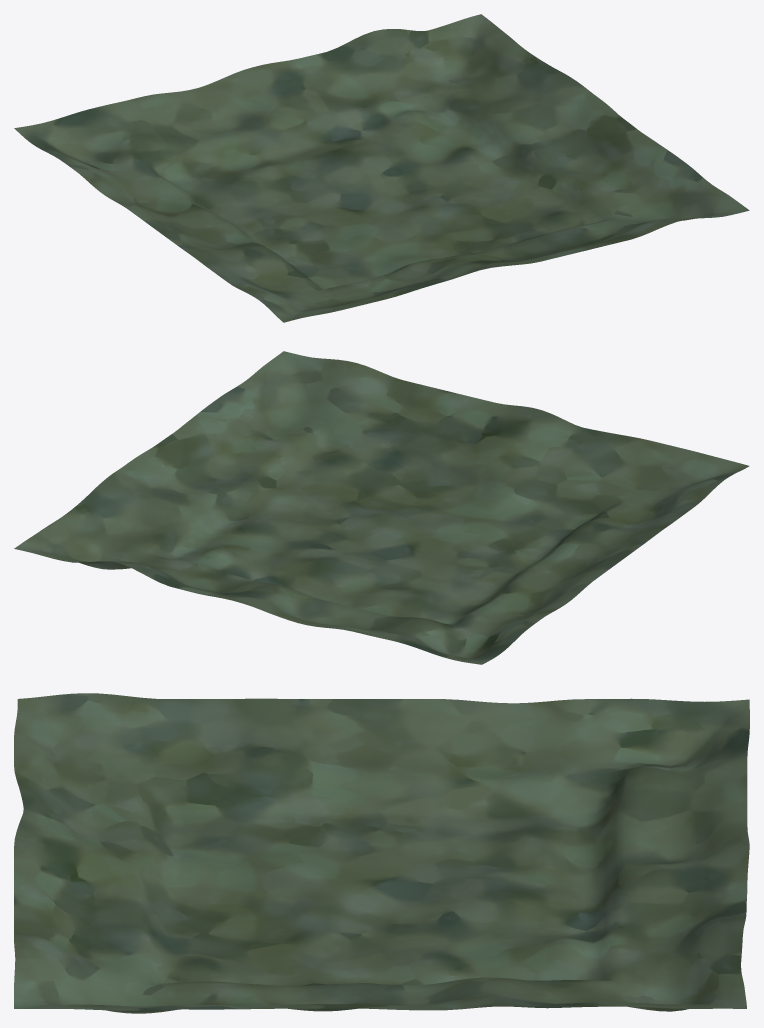
The model's file is floor.fbx.
The picture shows the model from 3 angles, top to bottom: view 1: azimuth 30°, elevation 25°; view 2: azimuth 150°, elevation 25°; view 3: azimuth 270°, elevation 25°; orthographic projection. The views are drawn at different scales.
Visible parts, largest first — view 1: Plane; view 2: Plane; view 3: Plane.
Part boxes in pixels (x1,y1,x2,y2): Plane: [14, 14, 749, 322]; Plane: [14, 351, 749, 664]; Plane: [14, 693, 749, 1013].
Size of the model in its own units: 15092 by 1452 by 15017.
